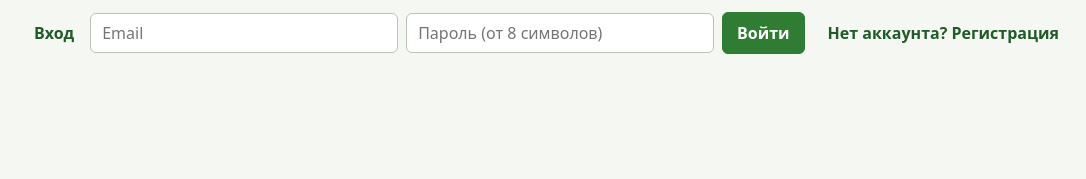
Test case: LoginForm › показывает детали ошибок валидации от API
Type "farmer@agromarket.kz" into the field labelled "Email".
click(244, 33); type("farmer@agromarket.kz")  # box [90,13,398,53]
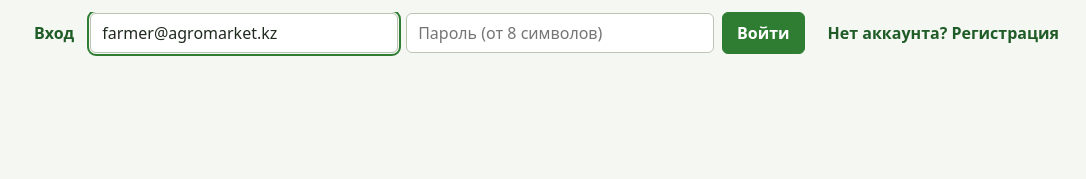
Type "secret123" into the password field labelled "Пароль (от 8 символов)".
click(560, 33); type("secret123")  # box [406,13,714,53]
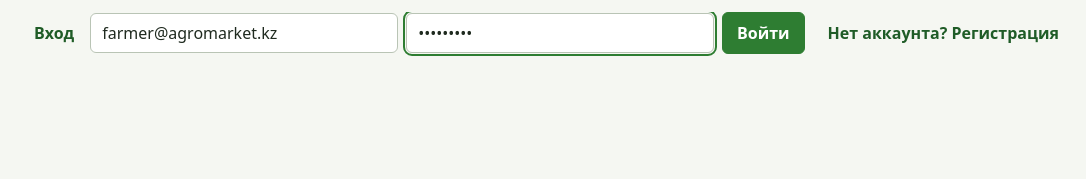
Click the button "Войти".
click(763, 33)  # box [722,12,804,54]
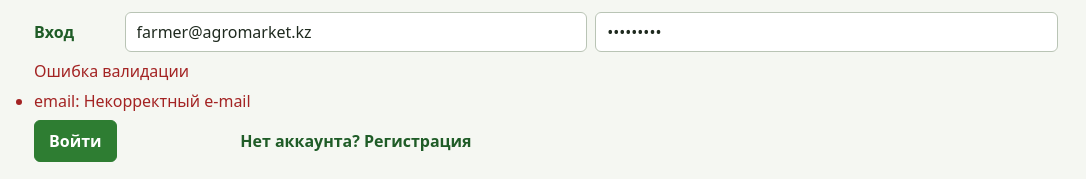
Check: the list item "email: Некорректный e-mail" is shown, box [34,90,251,112]
